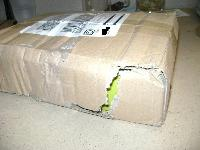damaged package: (71, 62, 169, 116)
undamaged: (0, 10, 181, 127)
